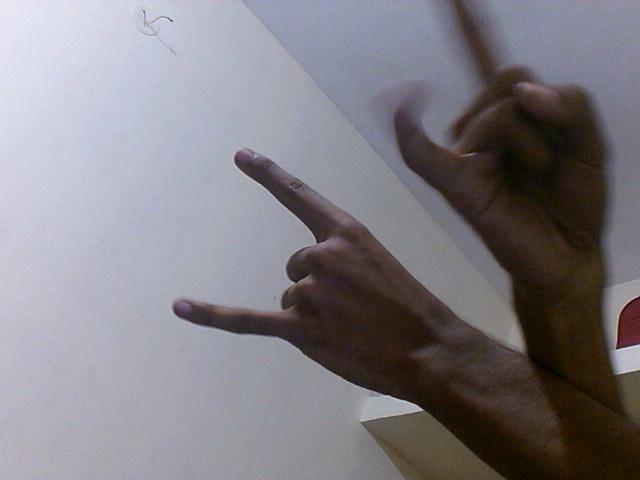hand: (168, 146, 465, 413), (373, 1, 621, 300)
